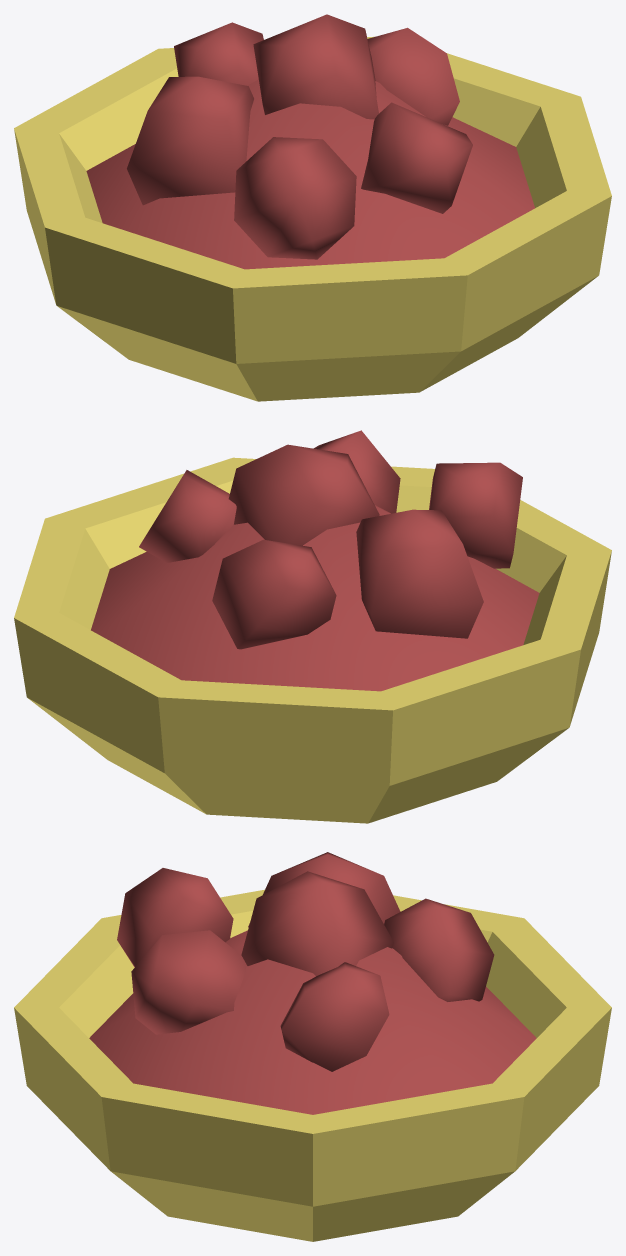
Rendered from Basket_Full.fbx.
The picture shows the model from 3 angles, top to bottom: view 1: azimuth 30°, elevation 25°; view 2: azimuth 150°, elevation 25°; view 3: azimuth 270°, elevation 25°; orthographic projection. The views are drawn at different scales.
Visible parts, largest first — view 1: Basket_Full; view 2: Basket_Full; view 3: Basket_Full.
Boxes of the visible parts, left/top/right/bottom form: Basket_Full: left=14, top=14, right=611, bottom=401; Basket_Full: left=14, top=430, right=611, bottom=823; Basket_Full: left=14, top=852, right=611, bottom=1241.
Bounding box in the file's own units: 2.91 × 1.51 × 2.91.
